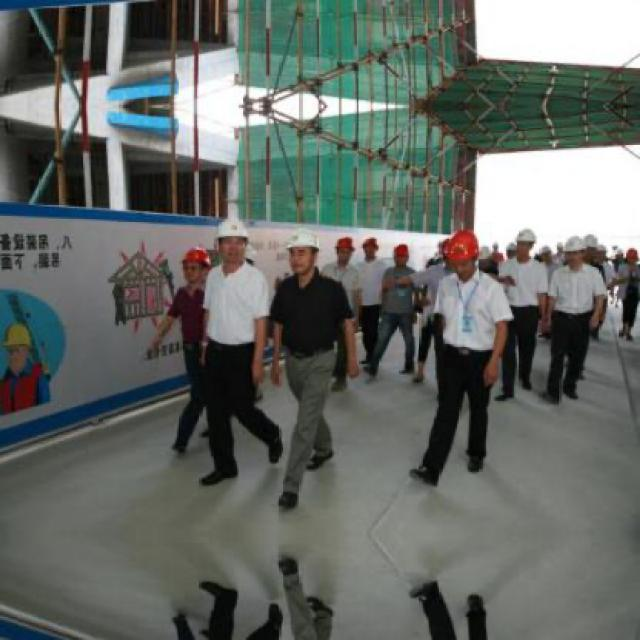helmet: (282, 225, 324, 278), (215, 213, 252, 265), (442, 227, 480, 276), (3, 321, 37, 375), (177, 244, 212, 293), (563, 233, 586, 267), (332, 233, 357, 264), (514, 227, 538, 256), (583, 233, 602, 262), (391, 242, 411, 268), (362, 236, 382, 259)
